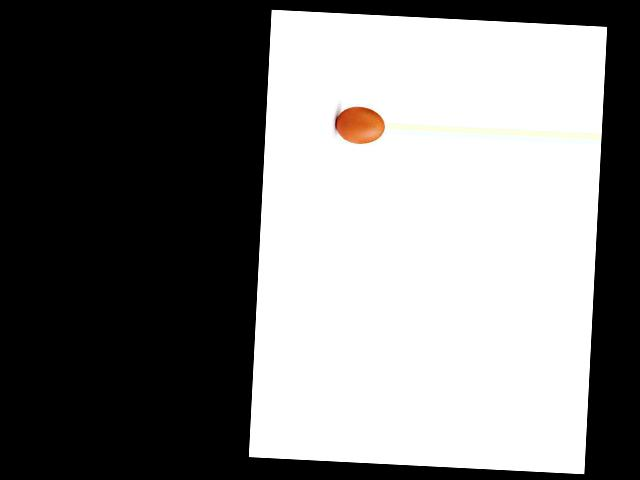egg: (334, 105, 385, 144)
